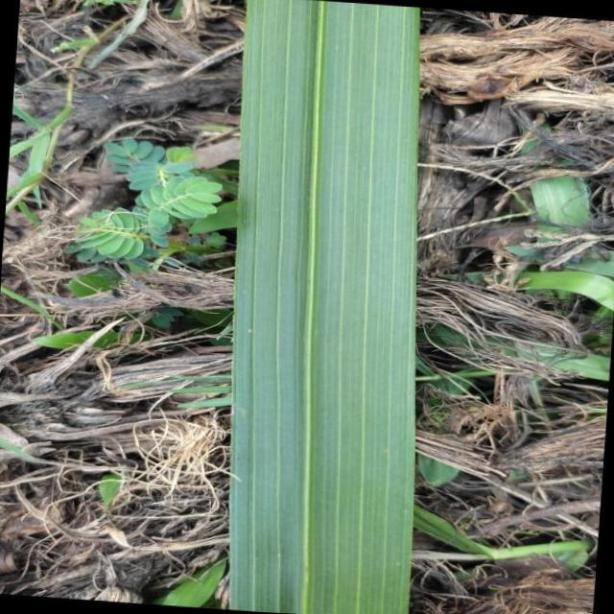Healthy: (228, 1, 417, 614)
